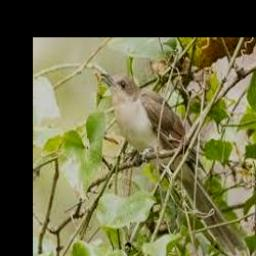Cuckoo: (101, 72, 247, 256)
